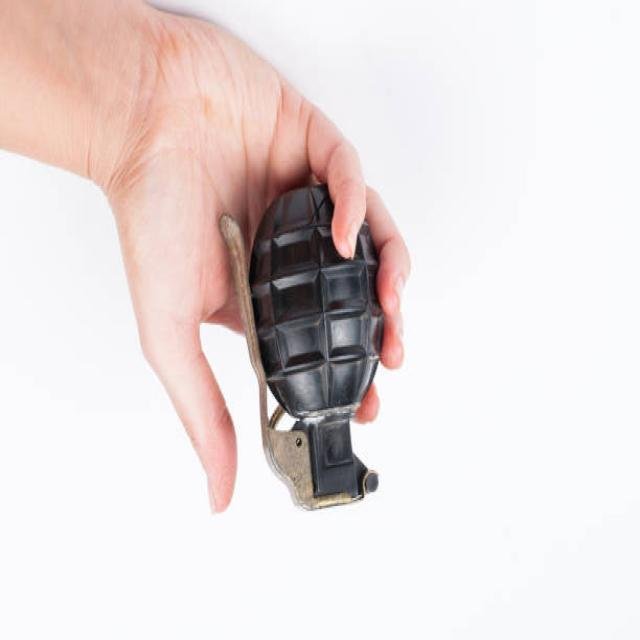grenade: (216, 191, 385, 525)
